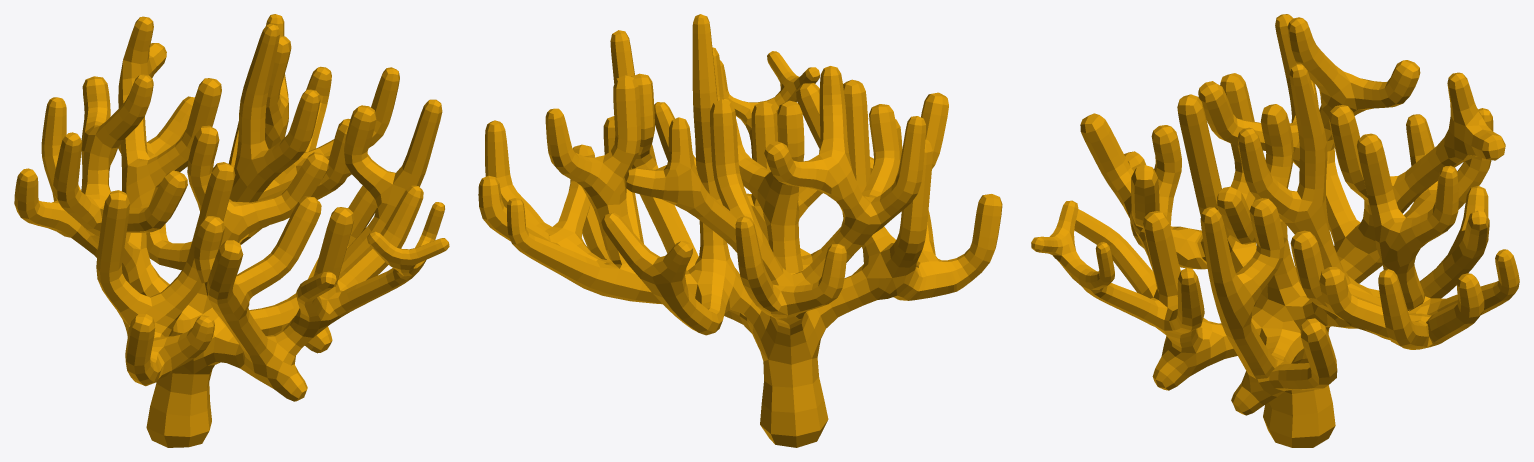
File: coral-2.glb
3 views of the same model, side by side, from view 1: azimuth 30°, elevation 25°; view 2: azimuth 150°, elevation 25°; view 3: azimuth 270°, elevation 25° (orthographic). The views are drawn at different scales.
Parts seen in each view (by area): view 1: coral-1; view 2: coral-1; view 3: coral-1.
Boxes of the visible parts, x1=… form: coral-1: x1=14, y1=14, x2=449, y2=447; coral-1: x1=478, y1=14, x2=1002, y2=447; coral-1: x1=1031, y1=14, x2=1519, y2=447.
Bounding box in the file's own units: 0.4142 × 0.4069 × 0.4227.
